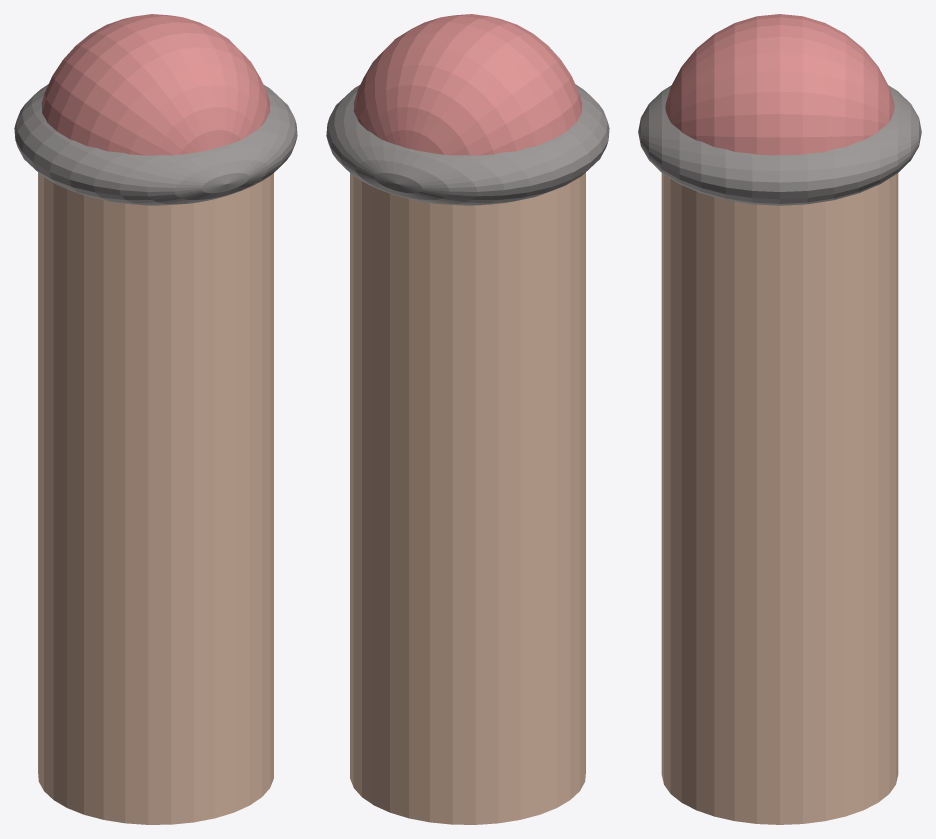
The model's file is bullet_merged.fbx.
The picture shows the model from 3 angles, left to right: view 1: azimuth 30°, elevation 25°; view 2: azimuth 150°, elevation 25°; view 3: azimuth 270°, elevation 25°; orthographic projection.
Parts seen in each view (by area): view 1: Cylinder; view 2: Cylinder; view 3: Cylinder.
Part boxes in pixels (x1=…): Cylinder: x1=14, y1=14, x2=297, y2=824; Cylinder: x1=326, y1=14, x2=609, y2=824; Cylinder: x1=638, y1=14, x2=921, y2=824.
Bounding box in the file's own units: 12 × 35 × 12.
